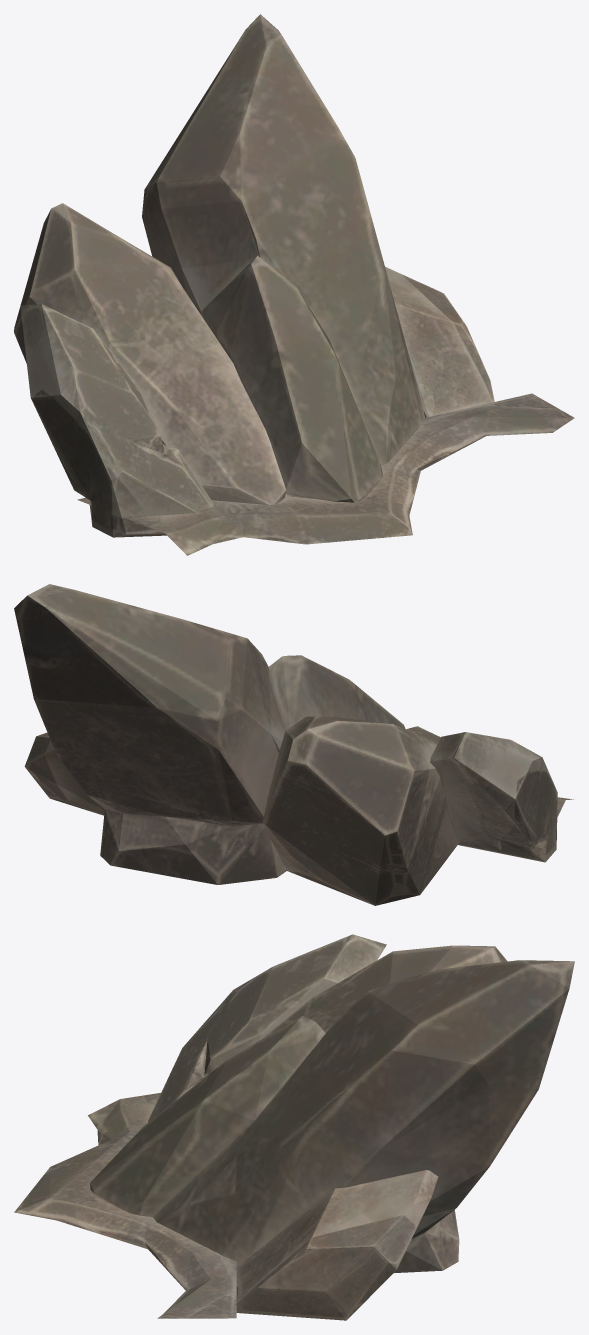
File: Rocks_Cluster.fbx
3 views of the same model, one above another, from view 1: azimuth 30°, elevation 25°; view 2: azimuth 150°, elevation 25°; view 3: azimuth 270°, elevation 25° (orthographic). The views are drawn at different scales.
Parts seen in each view (by area): view 1: Dn_VFX_Rocks_Cluster_C.mo; view 2: Dn_VFX_Rocks_Cluster_C.mo; view 3: Dn_VFX_Rocks_Cluster_C.mo.
Part boxes in pixels (bbox=[...]): Dn_VFX_Rocks_Cluster_C.mo: bbox=[14, 14, 574, 555]; Dn_VFX_Rocks_Cluster_C.mo: bbox=[14, 584, 573, 905]; Dn_VFX_Rocks_Cluster_C.mo: bbox=[14, 934, 574, 1320].
Size of the model in its own units: 223 by 138 by 221.
1 material, 1 textured.
